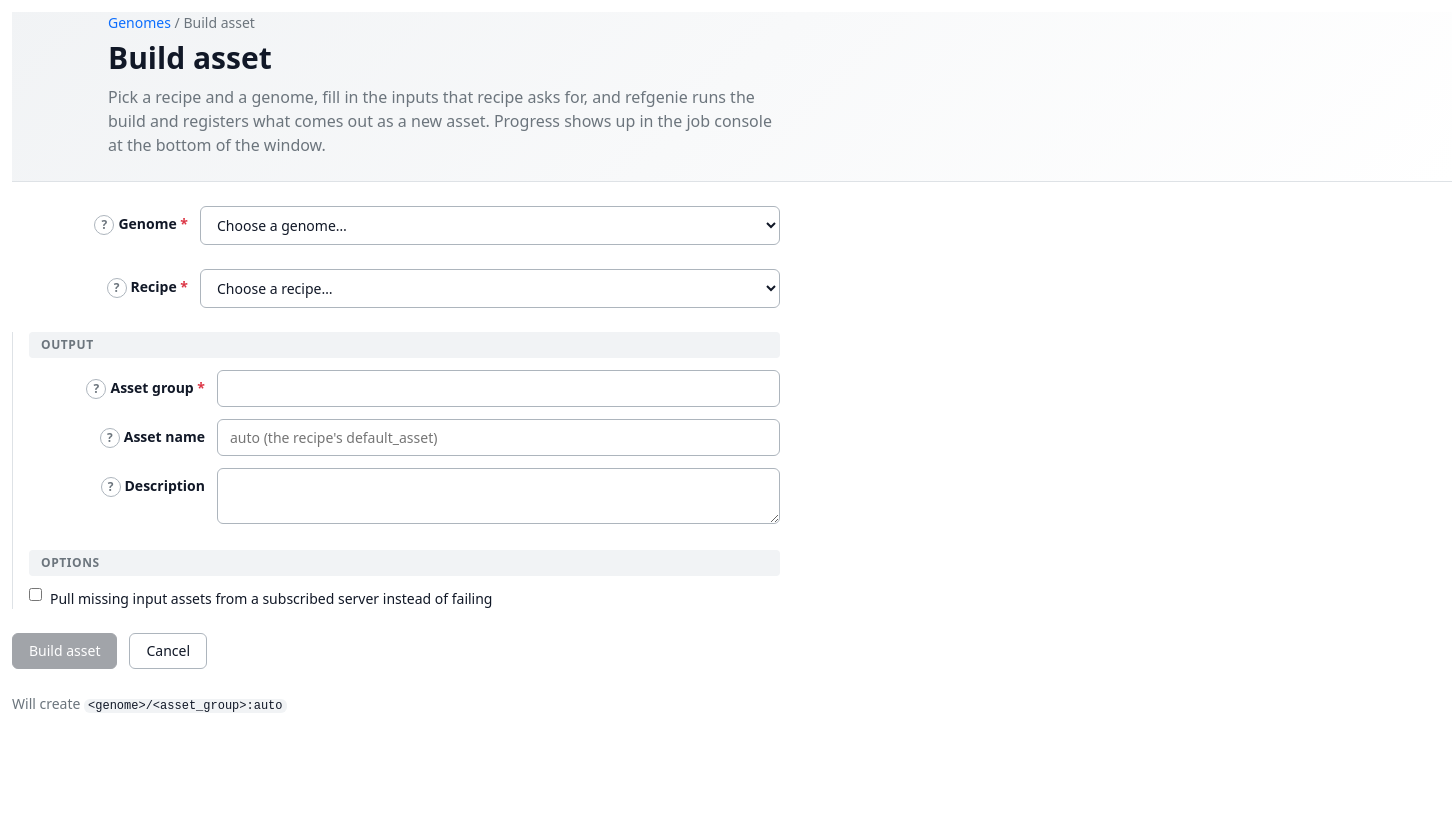
Scenario: BuildPage › renders a preflight field error under the input it names
The width and height of the screenshot is (1452, 819).
Select "hg38" in the dropdown labelled "Genome *" at (490, 226), box [200, 206, 780, 245]
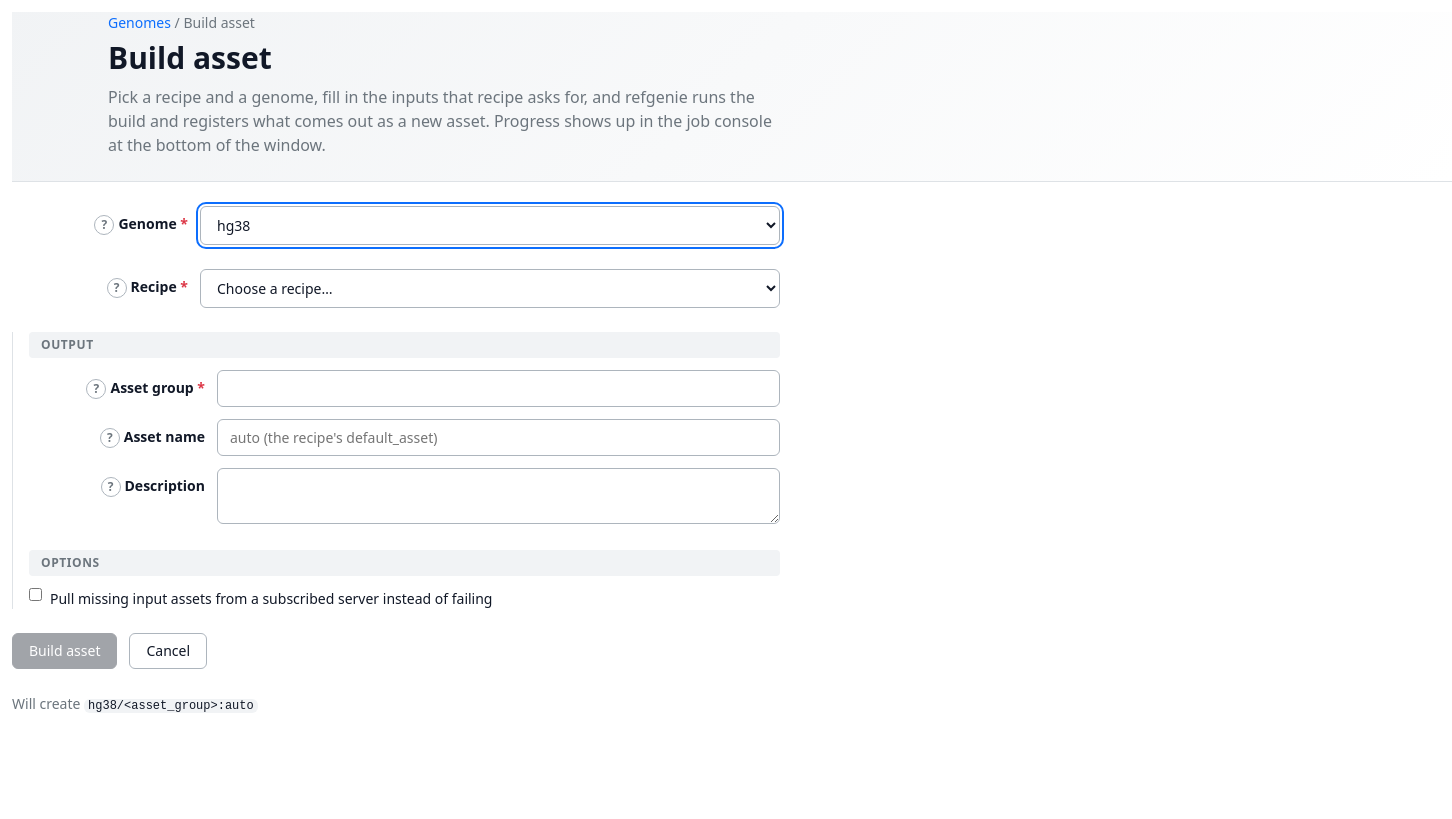
Select "bowtie2_index" in the dropdown labelled "Recipe *" at (490, 288), box [200, 269, 780, 308]
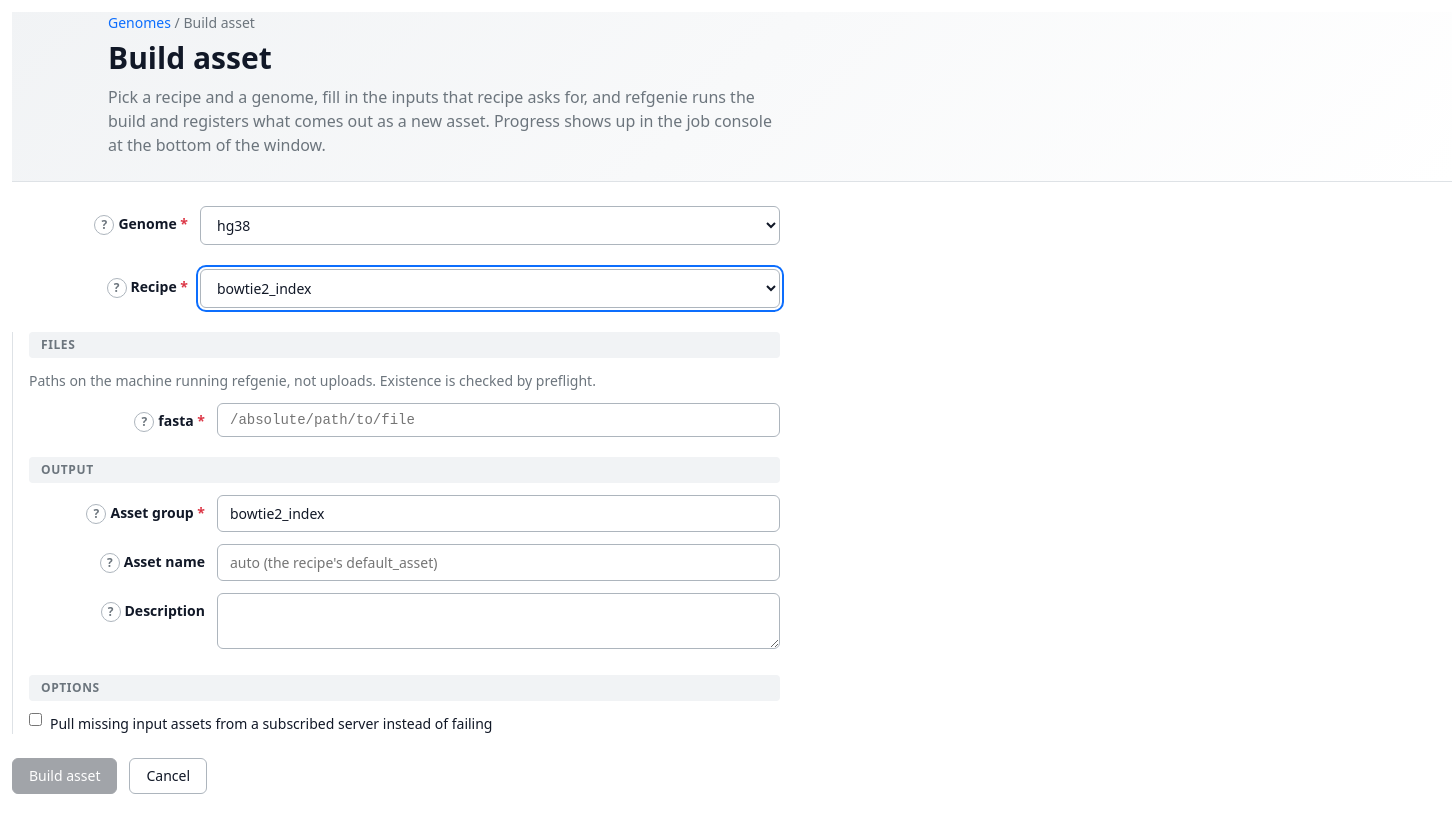
Type "/nope.fa" into the field labelled "fasta *".
click(498, 420); type("/nope.fa")  # box [217, 403, 780, 437]
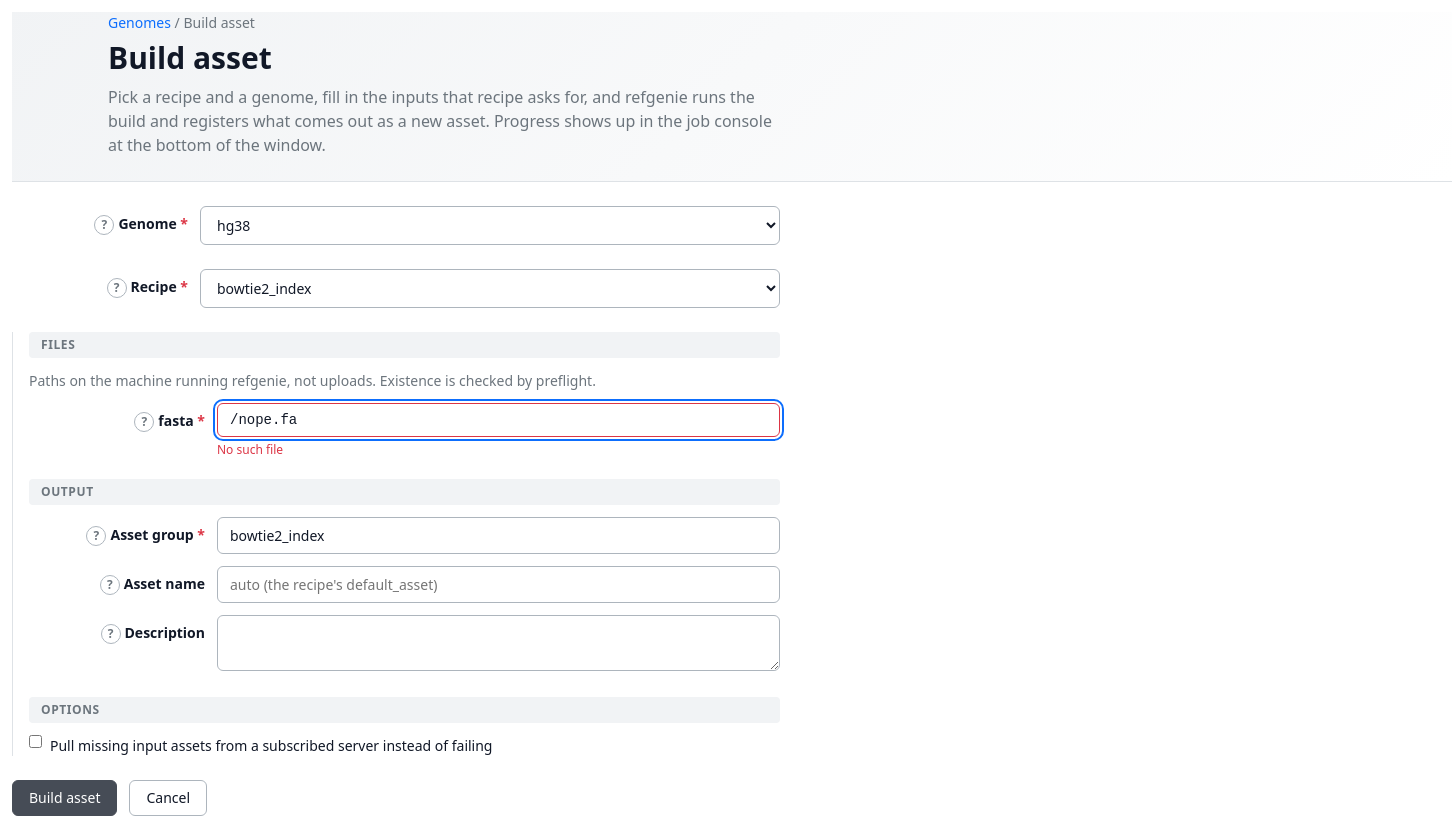
Now the text "No such file" is shown, box [217, 441, 283, 458]
